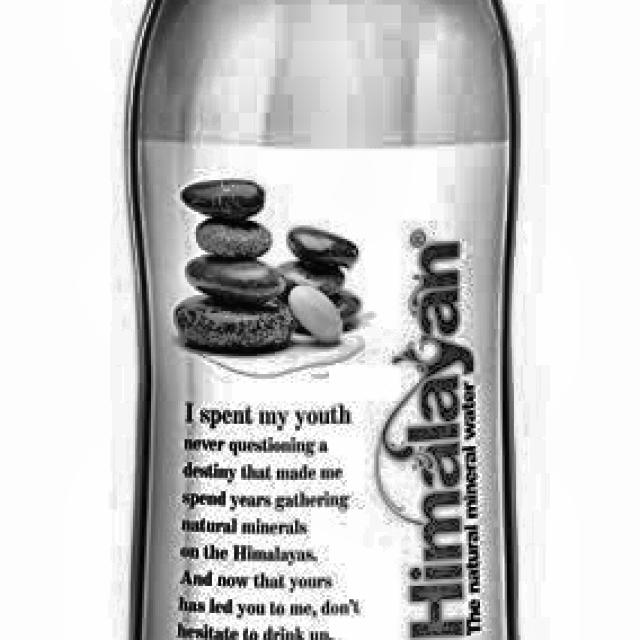bottle: (119, 0, 522, 640)
